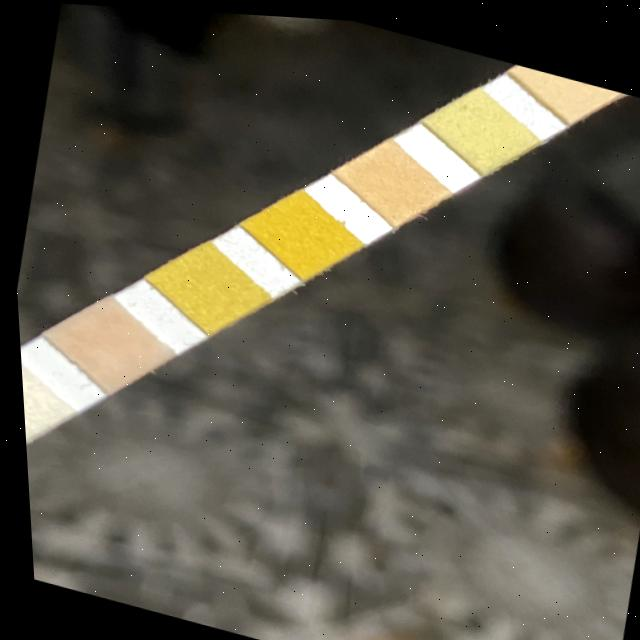Bilirubin: (18, 376, 41, 439)
Blood: (257, 204, 339, 264)
Ketone: (63, 312, 144, 379)
Protein: (446, 98, 516, 158)
SpGravity: (166, 255, 246, 319)
Urobilinogen: (532, 63, 599, 101)
pH: (349, 150, 429, 206)
